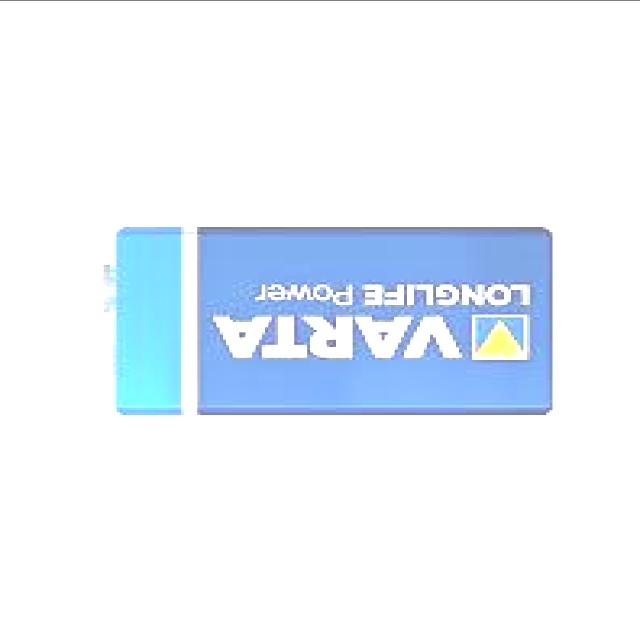9V: (85, 226, 552, 420)
